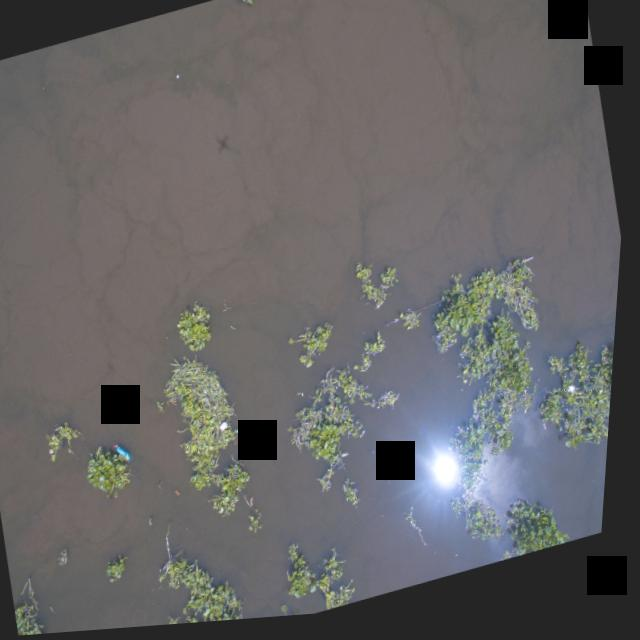plastic: (113, 437, 145, 471), (163, 557, 185, 576), (223, 421, 235, 436), (571, 392, 584, 405), (179, 490, 189, 500), (345, 456, 356, 464), (176, 75, 181, 82)
